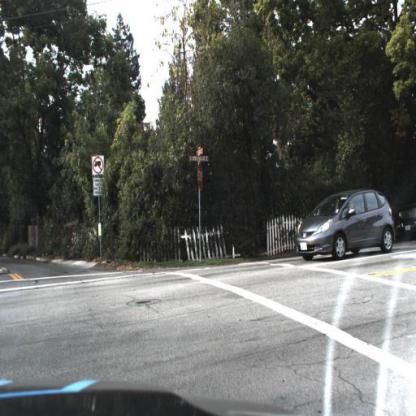car: (297, 187, 398, 260)
